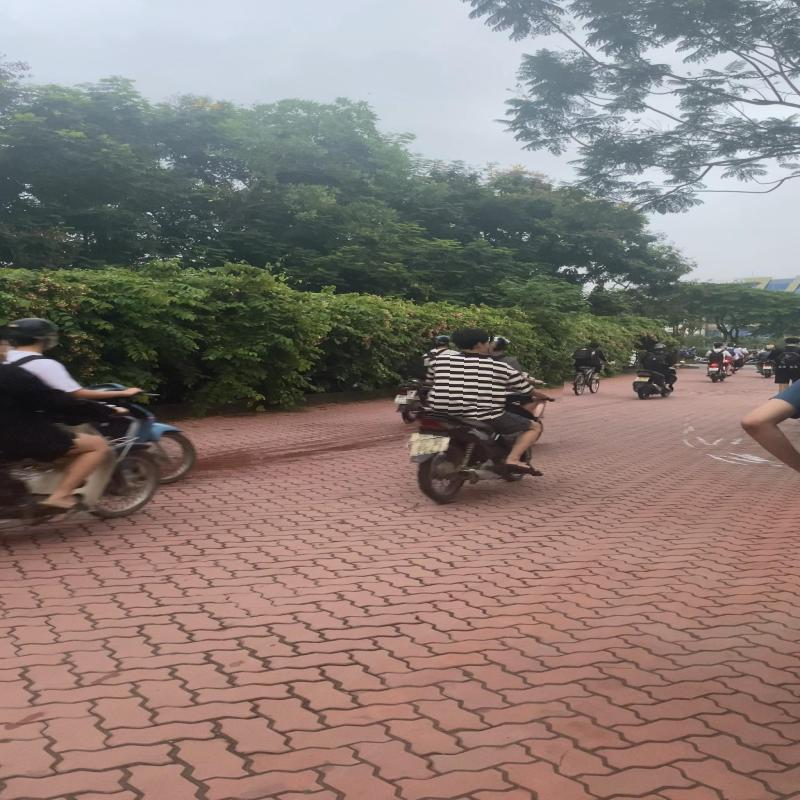licenseplate: (408, 436, 451, 454)
motorcyclist: (403, 324, 565, 506)
nohelmet: (450, 328, 490, 352)
